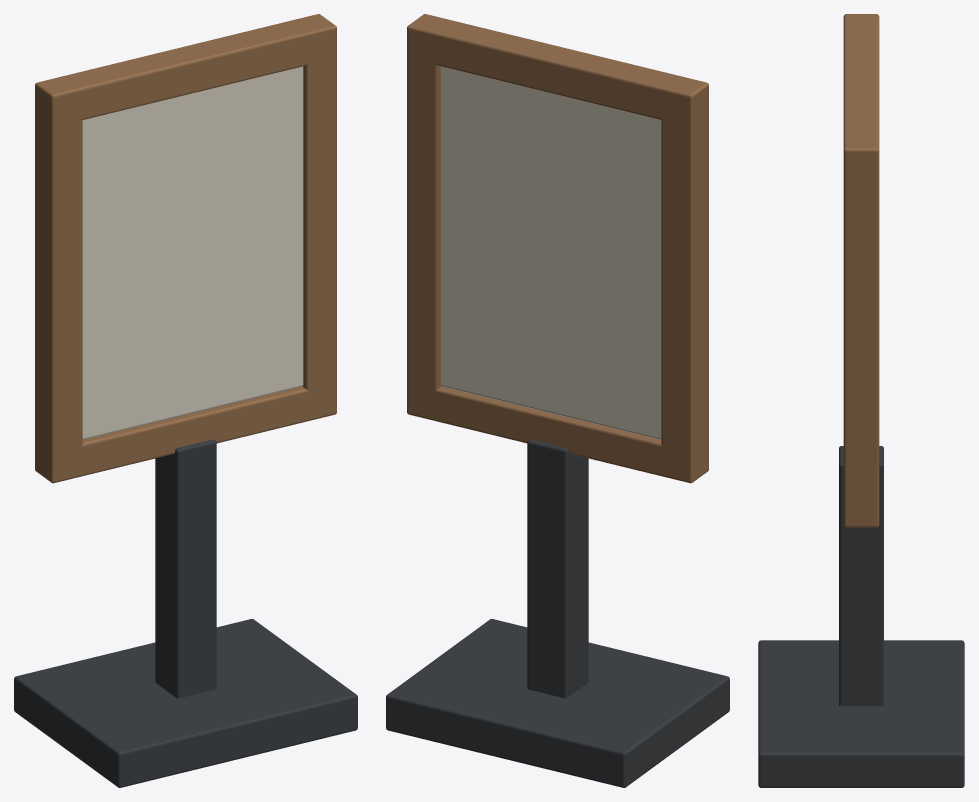
File: cafe-menu-stand-01.glb
3 views of the same model, side by side, from view 1: azimuth 30°, elevation 25°; view 2: azimuth 150°, elevation 25°; view 3: azimuth 270°, elevation 25° (orthographic). The views are drawn at different scales.
Visible parts, largest first — view 1: cafe-menu-stand-01; view 2: cafe-menu-stand-01; view 3: cafe-menu-stand-01.
Part boxes in pixels (x1,y1,x2,y2): cafe-menu-stand-01: (14, 14, 357, 787); cafe-menu-stand-01: (386, 14, 729, 787); cafe-menu-stand-01: (758, 14, 964, 787).
Bounding box in the file's own units: 0.5 × 1.12 × 0.32.
